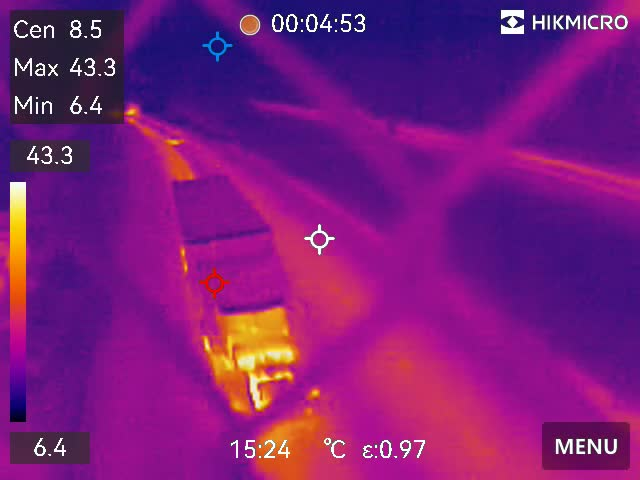heavyTruck: (174, 171, 318, 408)
